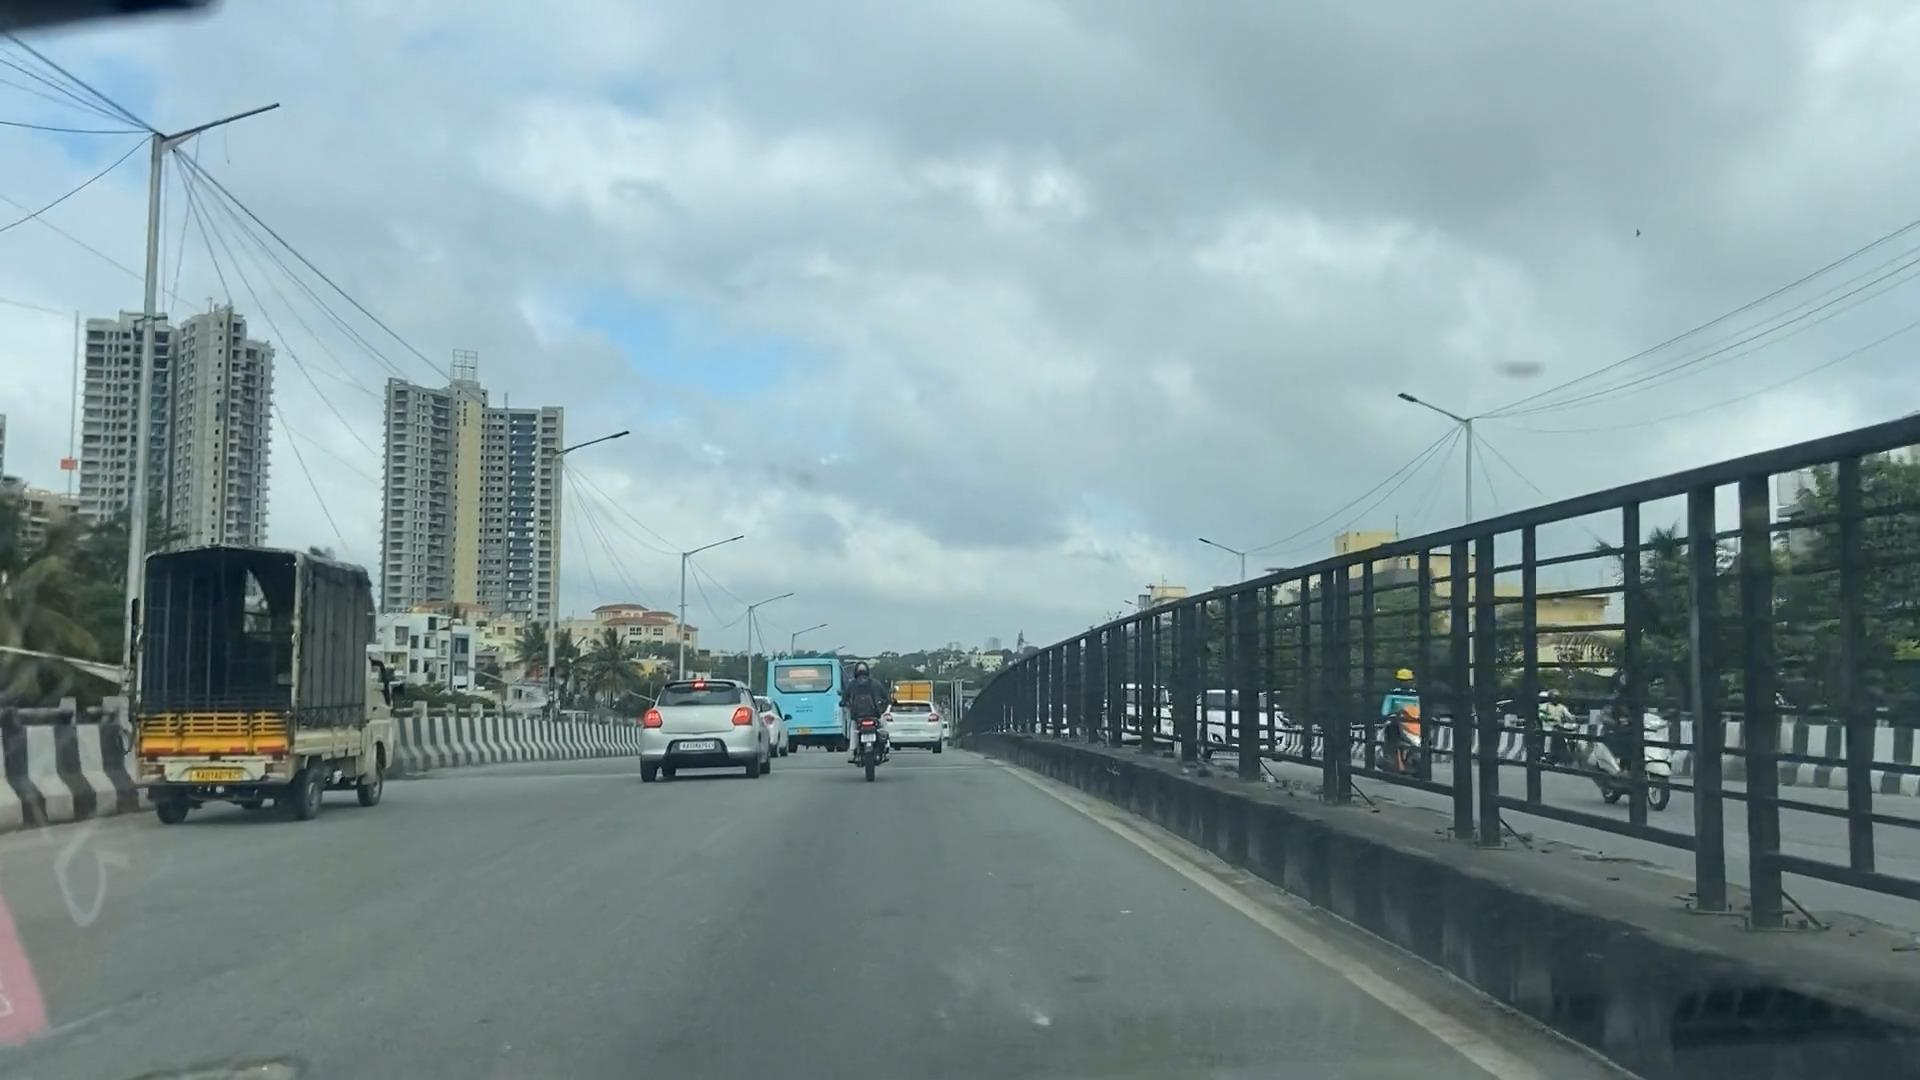HMV: (129, 522, 401, 849), (750, 609, 856, 760)
LMV: (626, 629, 785, 799), (794, 622, 920, 827), (865, 661, 961, 754)
